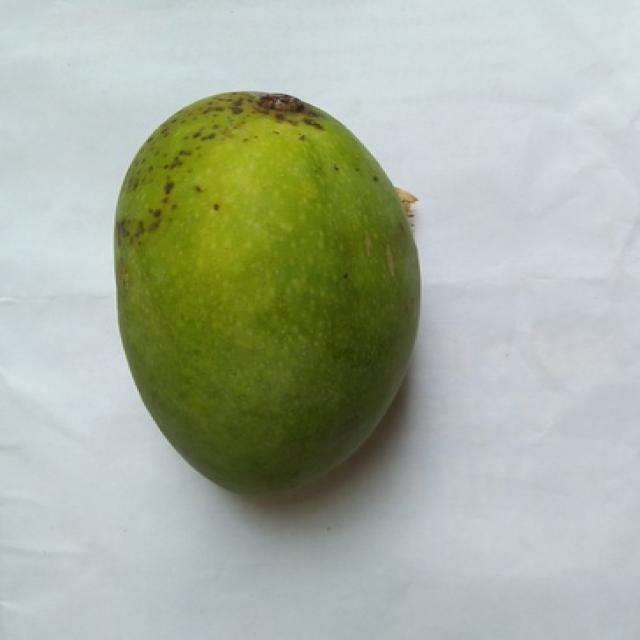Mango: (116, 92, 418, 494)
